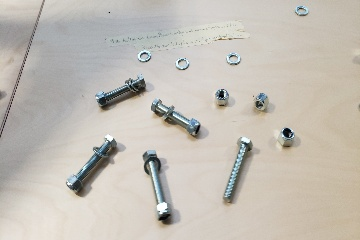Bolt: (218, 134, 258, 205)
FalseAssembly: (66, 134, 119, 193), (140, 151, 175, 224)
FinishedAssembly: (150, 97, 202, 136), (93, 71, 148, 107)
Nut: (277, 127, 295, 146), (253, 92, 269, 111), (215, 88, 230, 104)
Washer: (134, 49, 152, 64), (225, 51, 241, 65), (173, 58, 191, 70), (293, 5, 310, 16)
